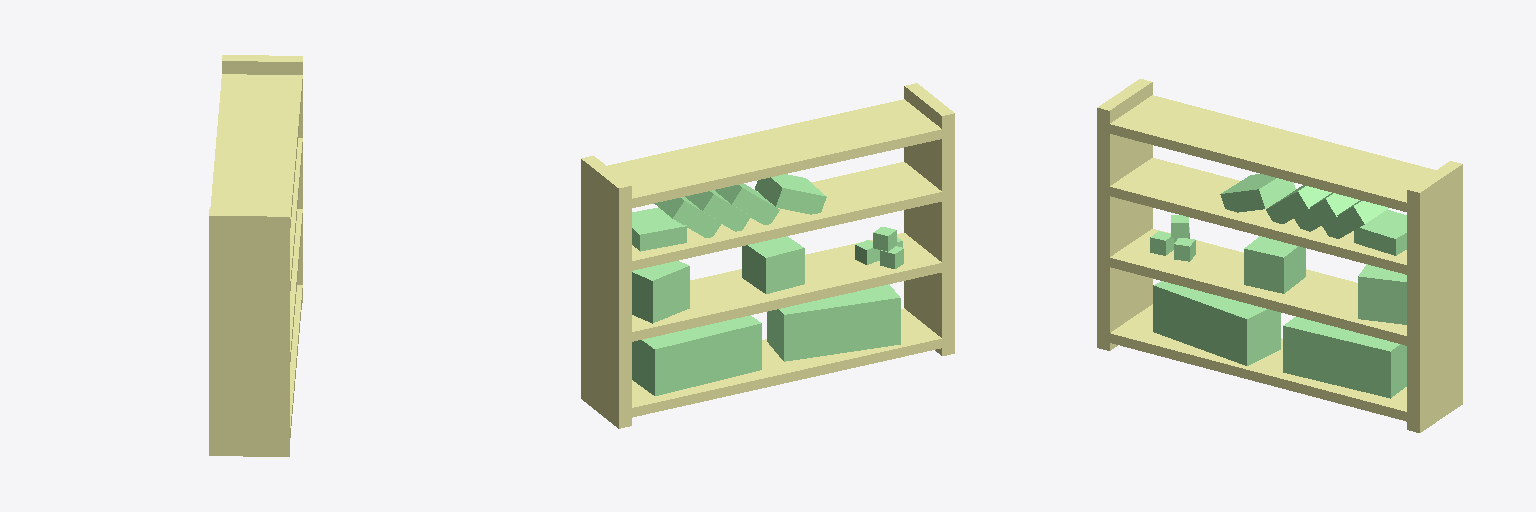
File: Shelf.obj
3 views of the same model, side by side, from view 1: azimuth 30°, elevation 25°; view 2: azimuth 150°, elevation 25°; view 3: azimuth 270°, elevation 25° (orthographic).
Parts seen in each view (by area): view 1: Shelf; view 2: Shelf; view 3: Shelf.
Part boxes in pixels (x1,y1,x2,y2): Shelf: (209,55,302,456); Shelf: (581,83,954,428); Shelf: (1097,79,1462,432).
Size of the model in its own units: 15.66 by 15.34 by 21.14.